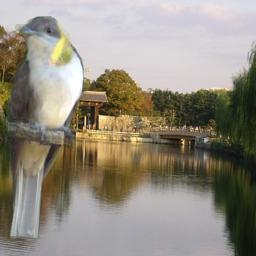Cuckoo: (3, 16, 84, 238)
